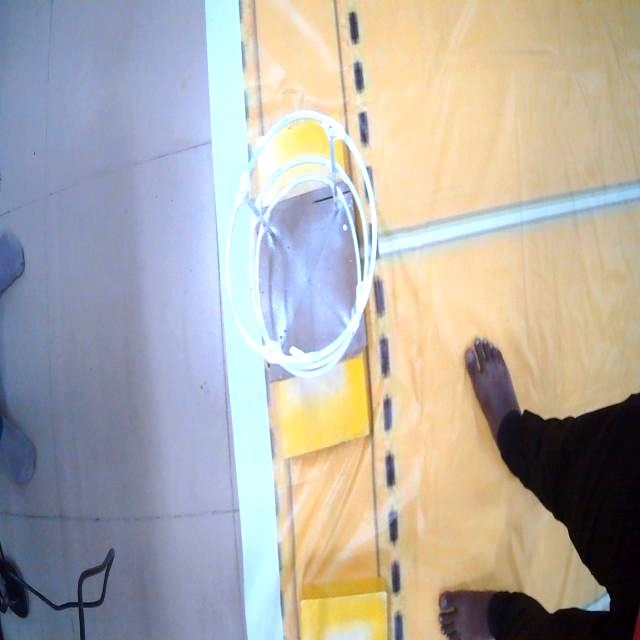silo: (226, 109, 376, 371)
